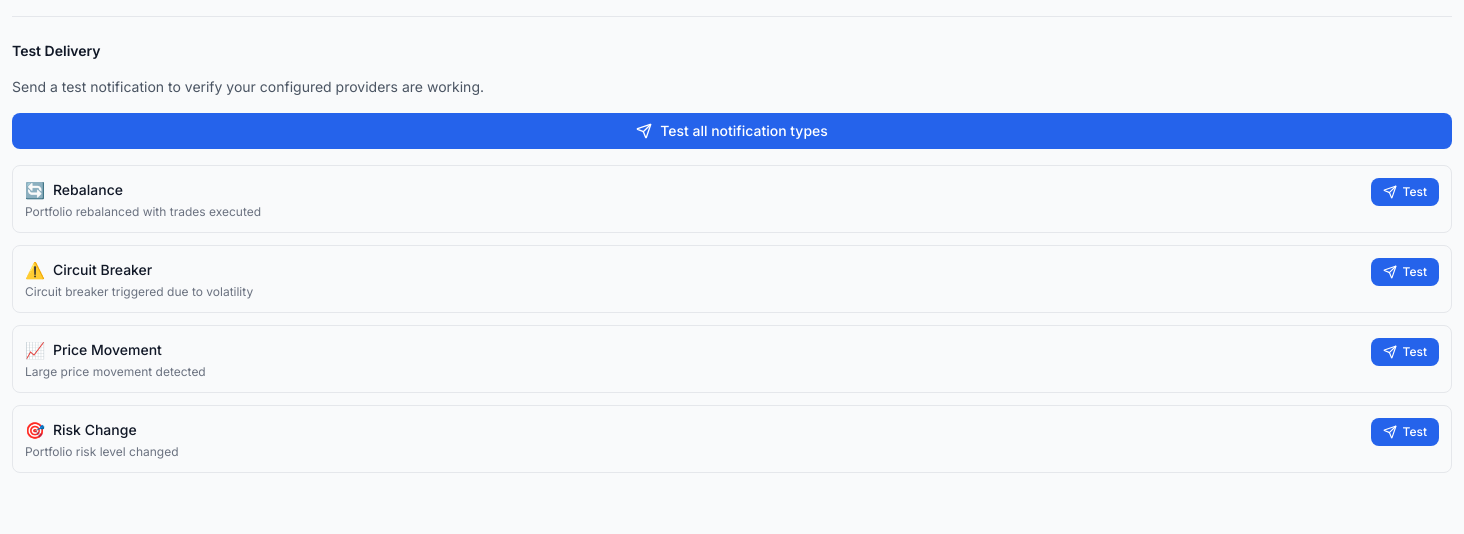
Test: NotificationTest › announces a non-2xx test delivery failure as an alert
Click the button with aria-label "test rebalance": {"x": 1405, "y": 192} [1370,178,1439,206]
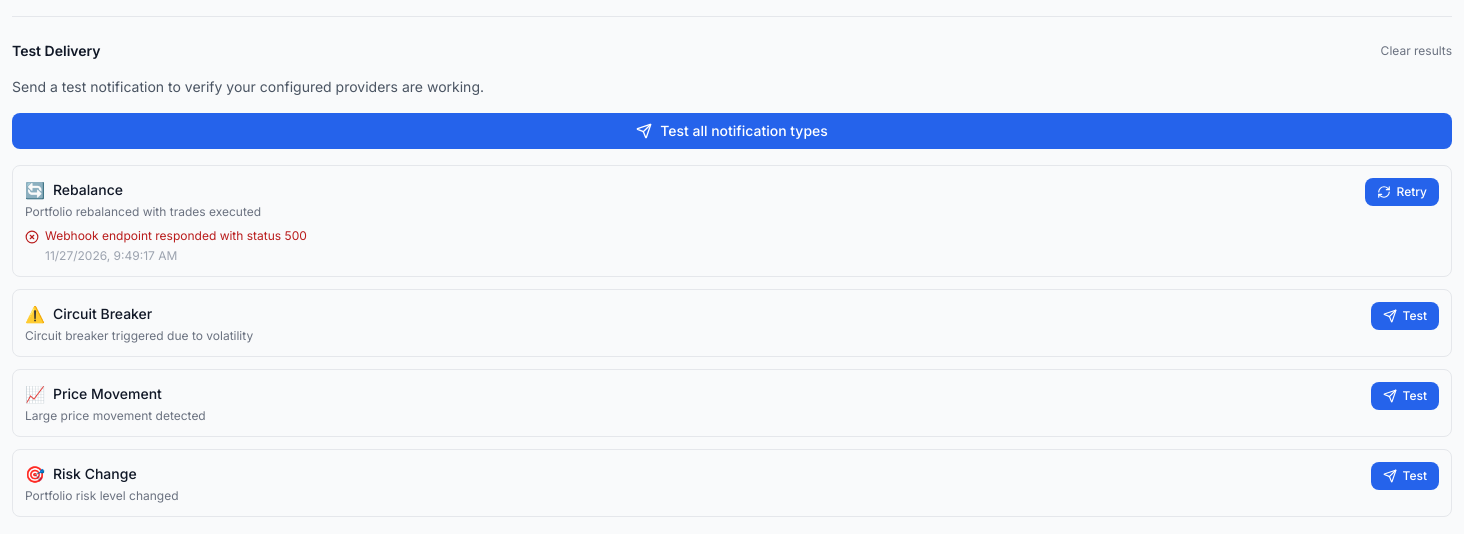
Result: the message reads "Webhook endpoint responded with status 500" at [45,228,307,243]
Result: the button with aria-label "retry rebalance test" is shown at [1364,178,1439,206]
